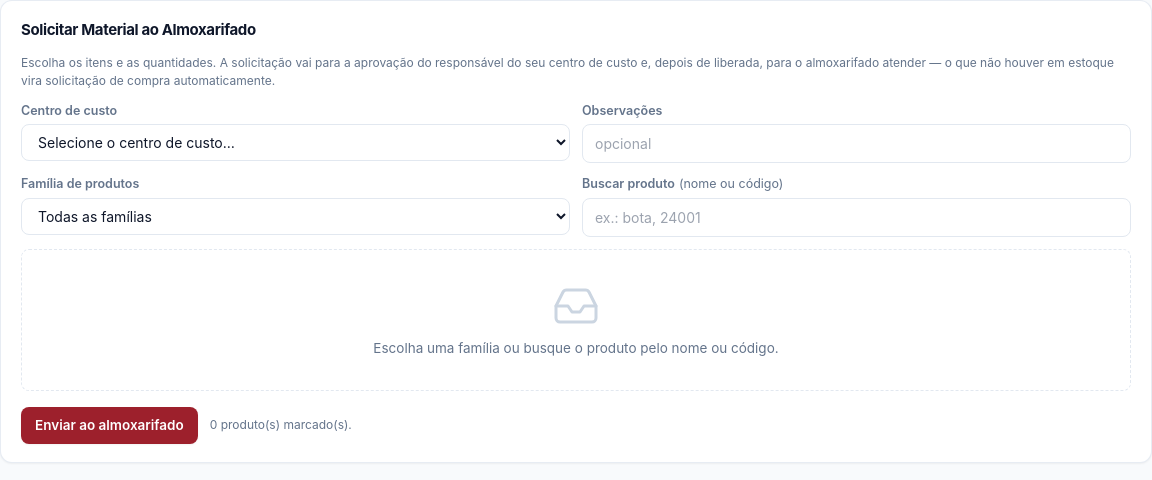
Test: tela Solicitar Material › família sem pendência de C.A. não mostra o aviso
Select "EPI" in the dropdown labelled "Família de produtos" at {"x": 296, "y": 216}, box [21,198,570,235]
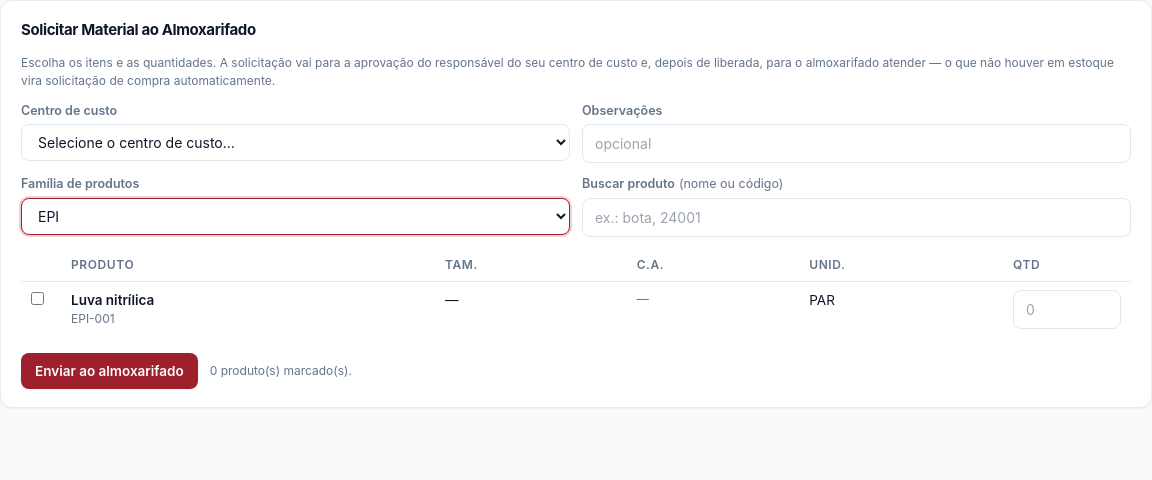
Expected: the table with test id "grade-produtos" is shown, [21,249,1131,337]
